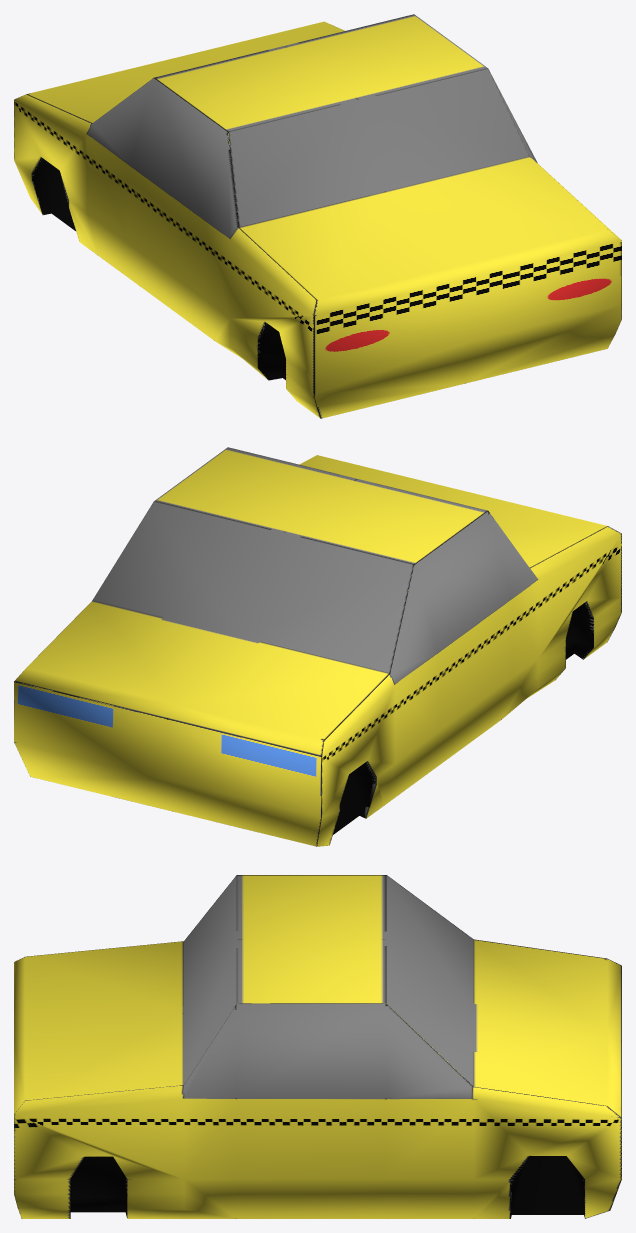
File: taxi - Copy.fbx
3 views of the same model, one above another, from view 1: azimuth 30°, elevation 25°; view 2: azimuth 150°, elevation 25°; view 3: azimuth 270°, elevation 25° (orthographic).
Parts seen in each view (by area): view 1: Taxi; view 2: Taxi; view 3: Taxi.
Part boxes in pixels (x1=…): Taxi: x1=14, y1=14, x2=621, y2=418; Taxi: x1=14, y1=447, x2=621, y2=846; Taxi: x1=14, y1=875, x2=621, y2=1218.
Size of the model in its own units: 2 by 1.34 by 3.38.
Materials: 1 (1 with a texture image).
